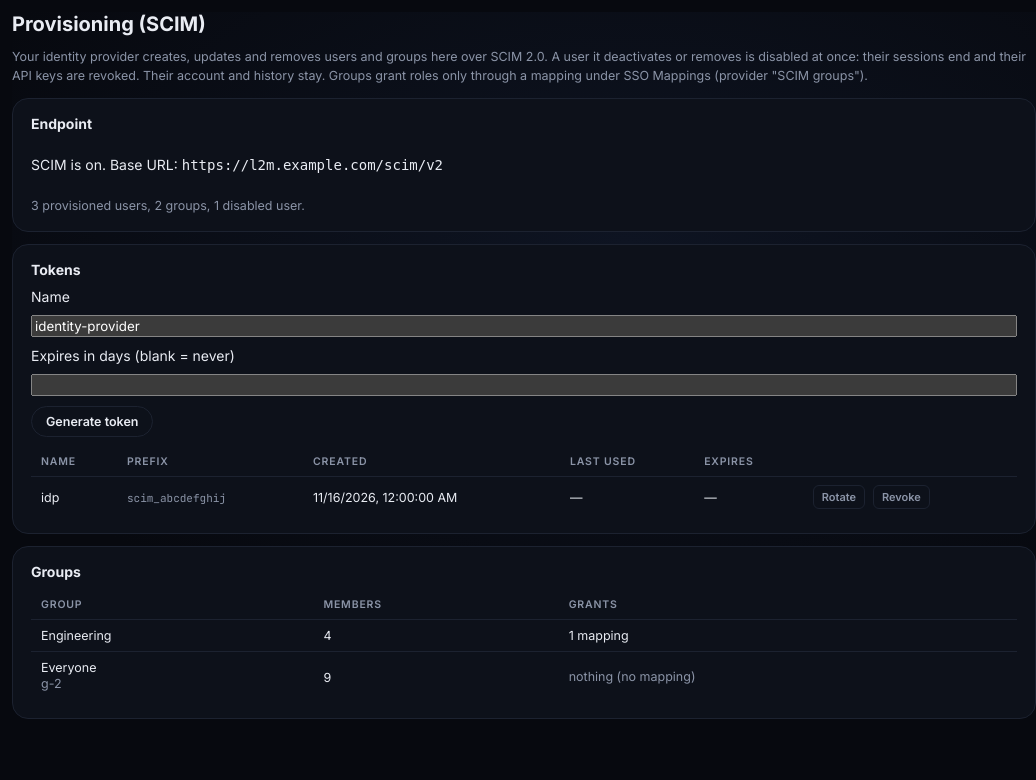
Provisioning (SCIM) tab › shows a new token once
What coordinates should you click on to do the following:
click the button "Generate token"
I would click on:
 (92, 422)
Its box is [31, 406, 153, 437].
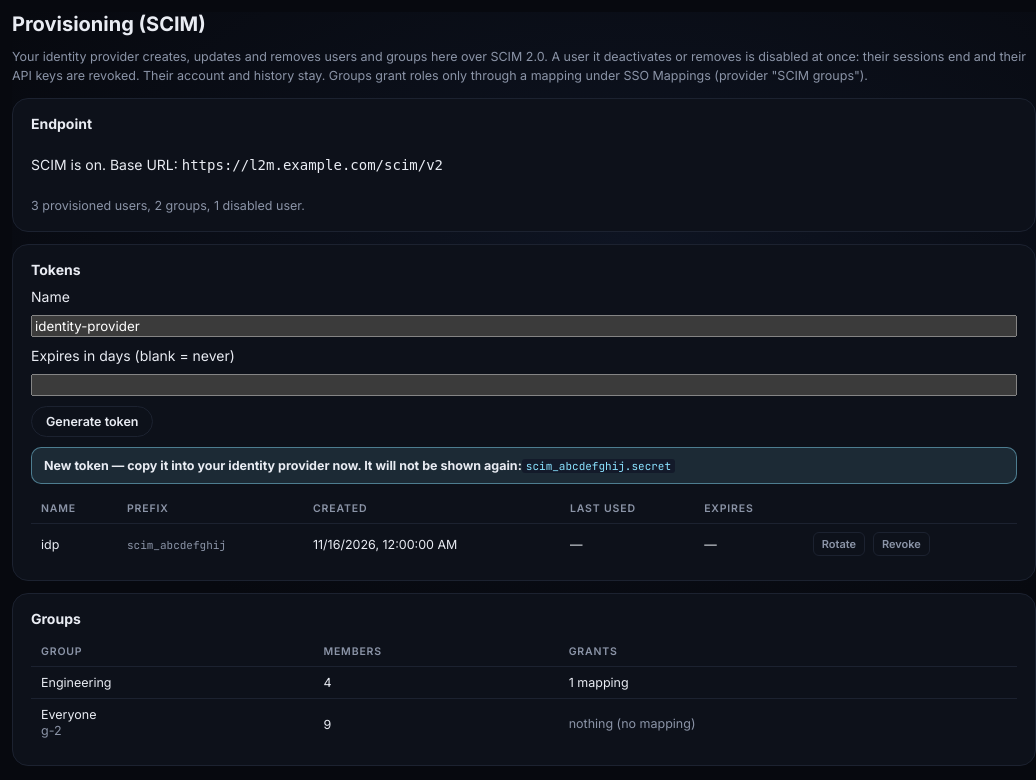
Expected: the text "scim_abcdefghij.secret" is shown, [522, 459, 675, 473]
